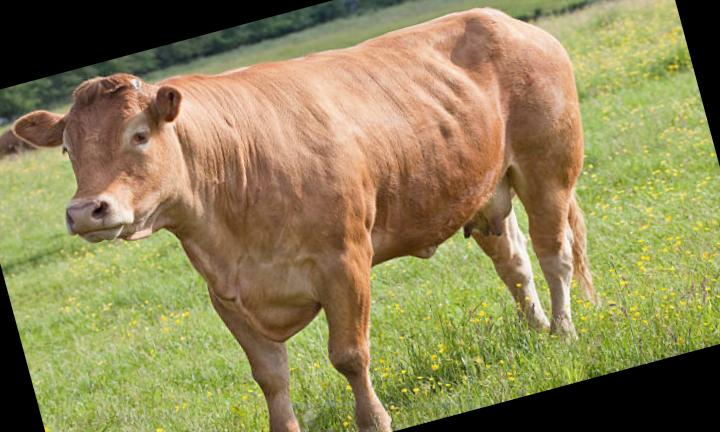Charolais: (15, 7, 592, 432)
